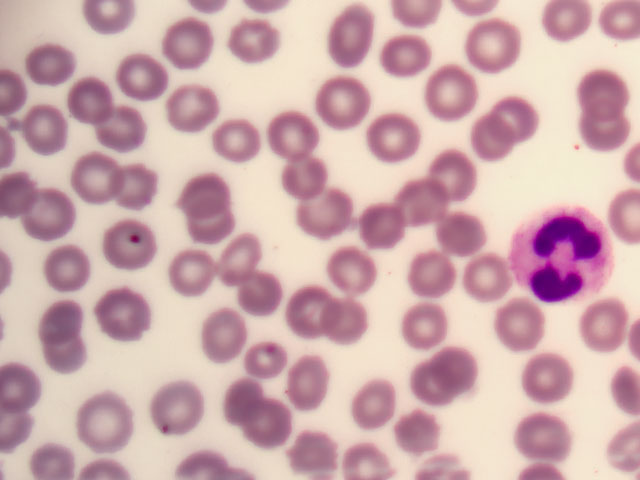RBC: (23, 37, 75, 89), (118, 54, 170, 106), (160, 18, 212, 70), (229, 17, 281, 69), (166, 81, 218, 133), (98, 109, 150, 161), (70, 79, 122, 131), (23, 102, 75, 154), (18, 188, 70, 240), (67, 154, 119, 206), (109, 159, 161, 211), (106, 219, 158, 271), (43, 240, 95, 292), (31, 284, 83, 336), (35, 324, 87, 376), (99, 287, 151, 339), (167, 249, 219, 301), (217, 231, 269, 283), (189, 206, 241, 258), (180, 169, 232, 221), (208, 118, 260, 170), (263, 107, 315, 159), (318, 81, 370, 133), (330, 12, 382, 64), (375, 30, 427, 82), (428, 66, 480, 118), (469, 20, 521, 72), (492, 92, 544, 144), (468, 116, 520, 168), (422, 152, 474, 204), (394, 183, 446, 235), (352, 194, 404, 246), (296, 193, 348, 245), (273, 155, 325, 207), (363, 114, 415, 166), (425, 208, 477, 260), (407, 240, 459, 292), (455, 251, 507, 303), (496, 302, 548, 354), (519, 350, 571, 402), (588, 304, 640, 356), (583, 112, 635, 164), (581, 68, 633, 120), (520, 411, 572, 463), (432, 342, 484, 394), (409, 359, 461, 411), (400, 301, 452, 353), (360, 382, 412, 434), (398, 406, 450, 458), (340, 428, 392, 480), (287, 428, 339, 480), (243, 397, 295, 449), (222, 379, 274, 431), (245, 335, 297, 387), (205, 311, 257, 363), (240, 273, 292, 325), (276, 282, 328, 334), (324, 295, 376, 347), (333, 246, 385, 298), (150, 385, 202, 437), (78, 397, 130, 449), (29, 428, 81, 480), (588, 428, 640, 480), (540, 1, 592, 52)
WBC: (511, 206, 613, 309)
